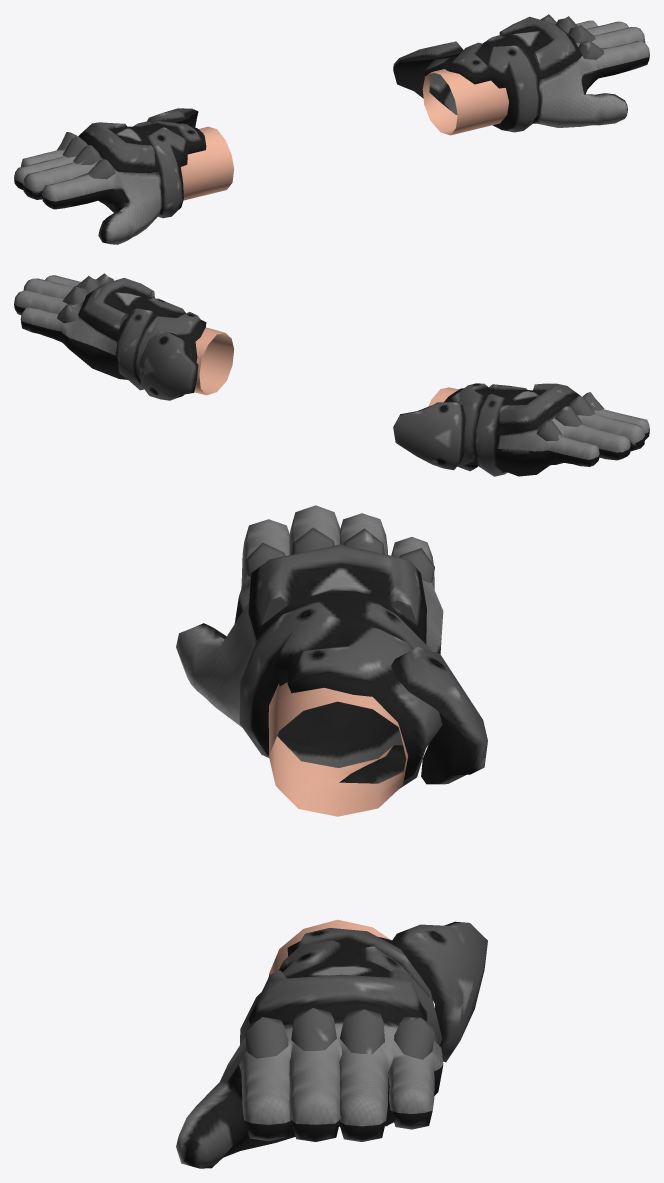
3 views of the same model, one above another, from view 1: azimuth 30°, elevation 25°; view 2: azimuth 150°, elevation 25°; view 3: azimuth 270°, elevation 25° (orthographic). The views are drawn at different scales.
Visible parts, largest first — view 1: model_0_submesh_1, model_0_submesh_0; view 2: model_0_submesh_1, model_0_submesh_0; view 3: model_0_submesh_1, model_0_submesh_0.
Part boxes in pixels (x1,y1,x2,y2): model_0_submesh_1: (14, 14, 649, 244); model_0_submesh_0: (181, 69, 508, 200); model_0_submesh_1: (14, 273, 649, 476); model_0_submesh_0: (194, 327, 458, 406); model_0_submesh_1: (176, 505, 487, 1168); model_0_submesh_0: (268, 682, 408, 975).
Bounding box in the file's own units: 1.28 × 0.1857 × 0.2815.
